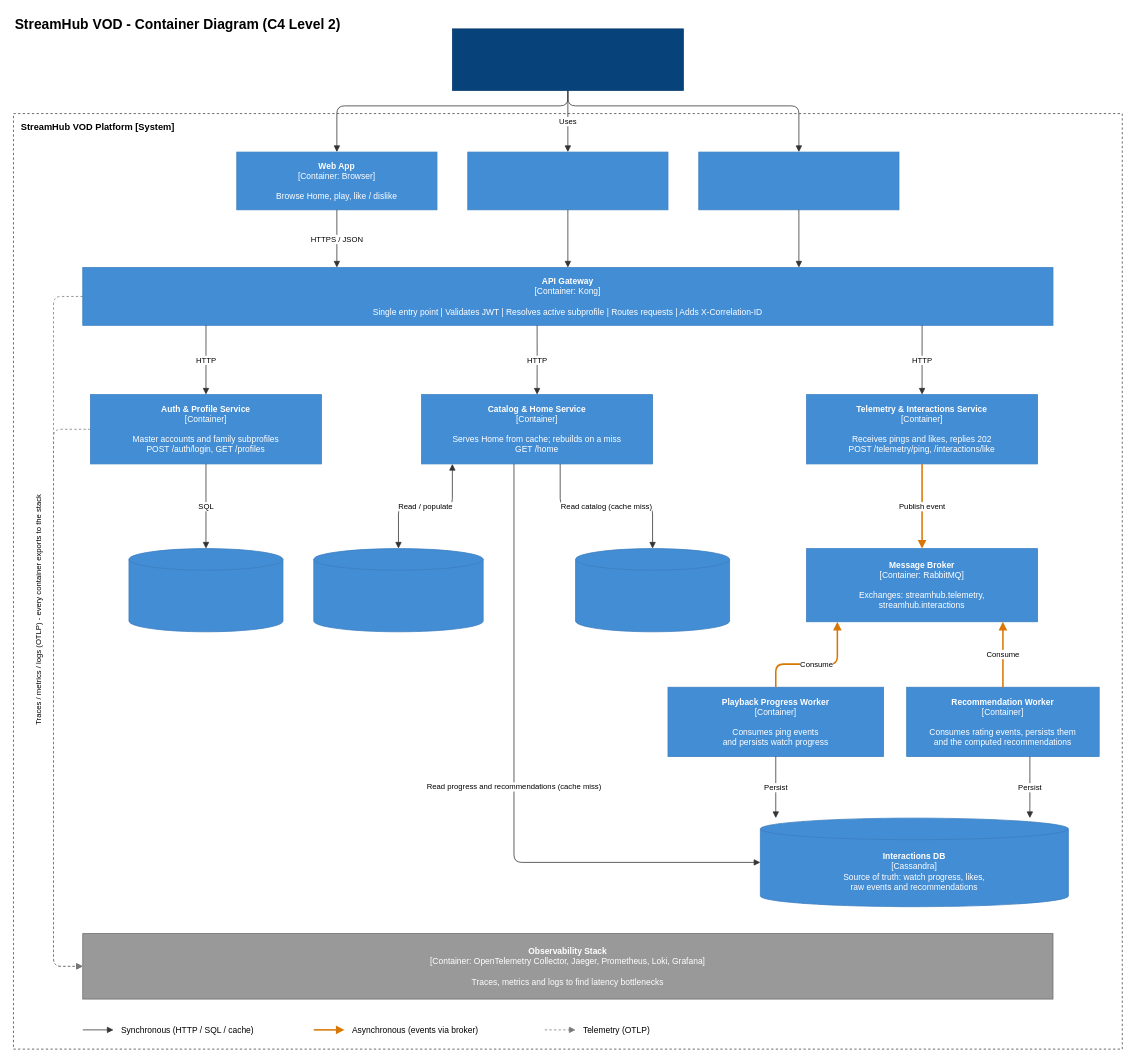
Some shapes in this 1136 by 1063 pixel diagram are drawn without their labels. The centre of each missing label's shape, as x and y in pixels:
Auth DB [PostgreSQL] Accounts and subprofiles: (x=205, y=590)
Cache [Redis] Precomputed Home view and Continue Watching: (x=398, y=590)
Catalog DB [MongoDB] Movies and series metadata: (x=652, y=590)
Mobile App [Container: iOS / Android] Browse Home, play, like / dislike: (x=567, y=180)
SmartTV App [Container: TV OS] Browse Home, play, like / dislike: (x=798, y=180)
User [Person] Watches content, sends playback pings and rates titles: (x=567, y=59)
